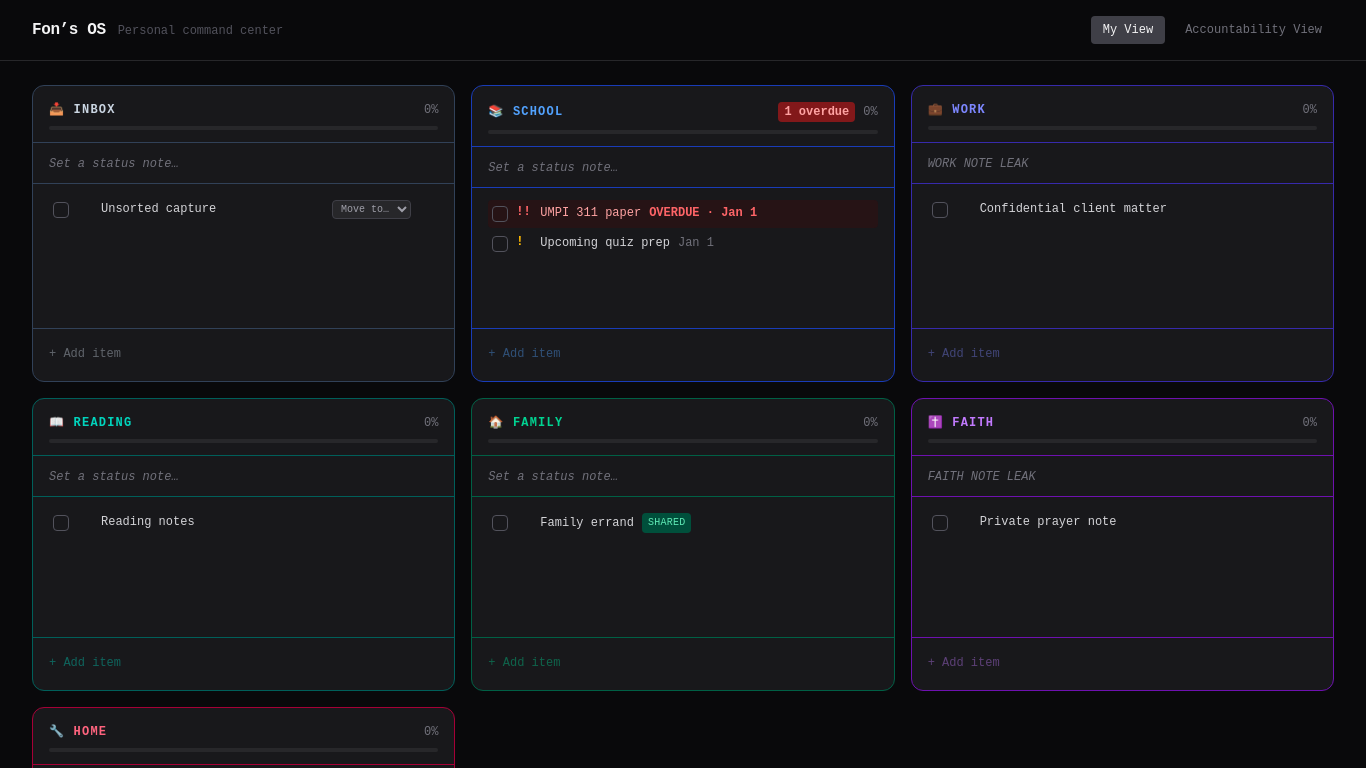
Test: Accountability View › leaks no status notes from other areas
Click the button "Accountability View" at {"x": 1254, "y": 30}, box [1173, 16, 1334, 44]
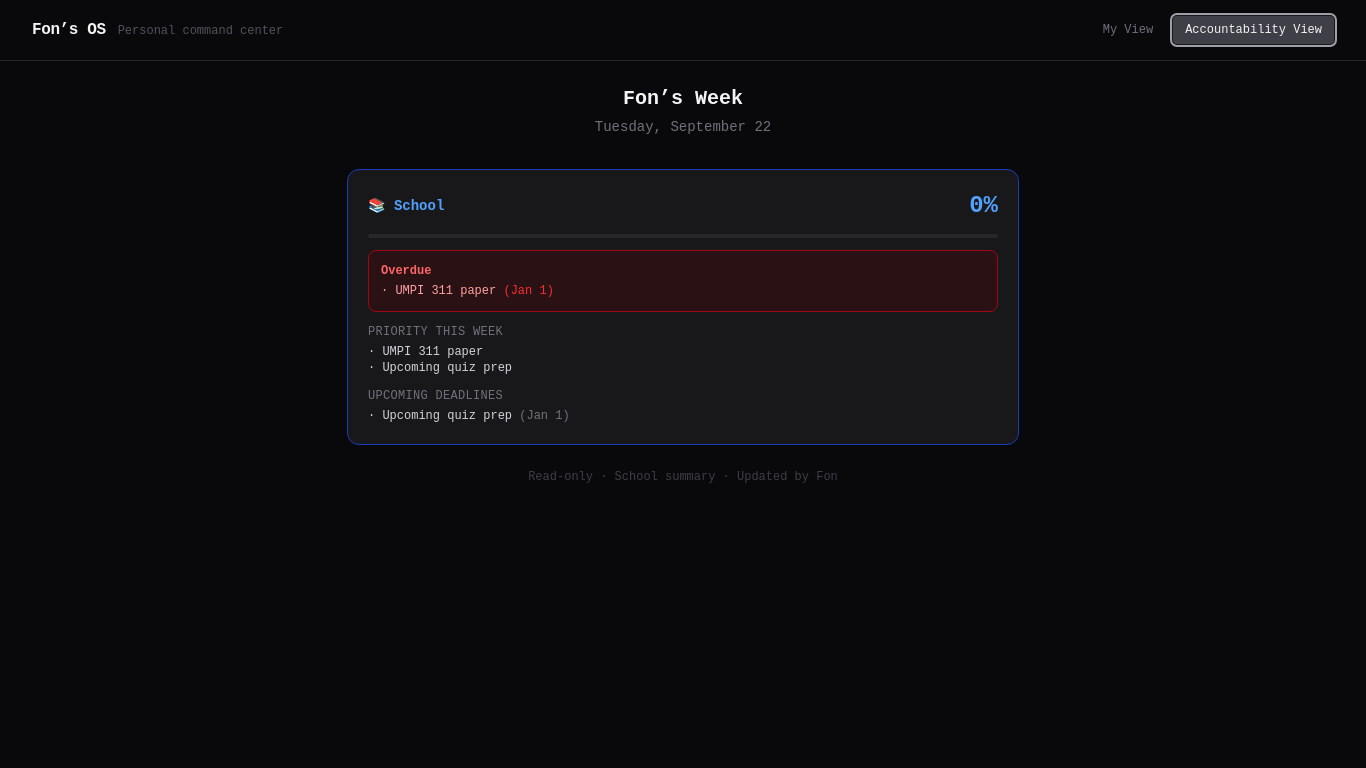
Now the button "WORK NOTE LEAK" is gone
Now the button "FAITH NOTE LEAK" is gone
